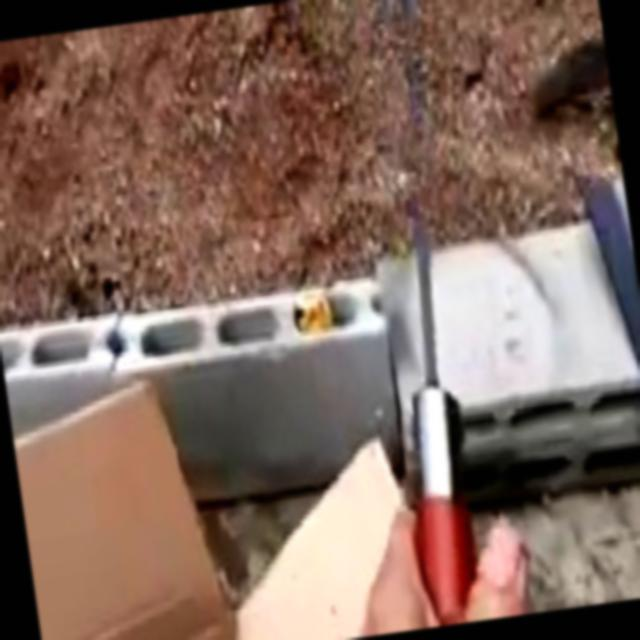eto: (403, 0, 469, 621)
